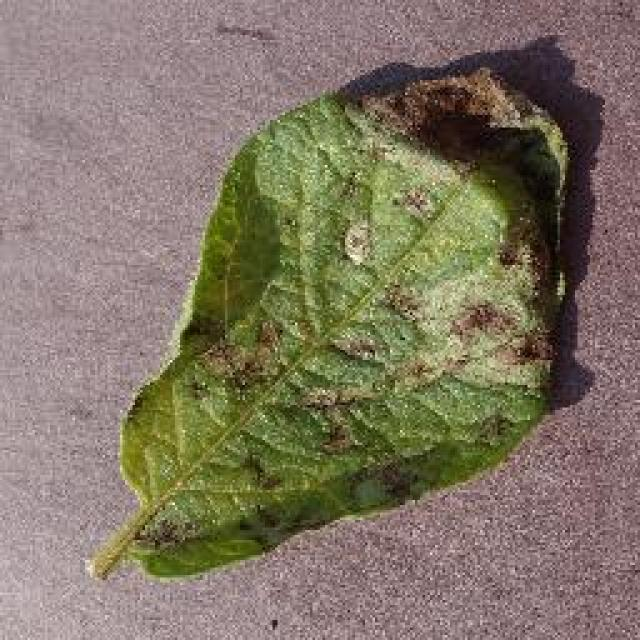late_blight: (85, 63, 575, 585)
